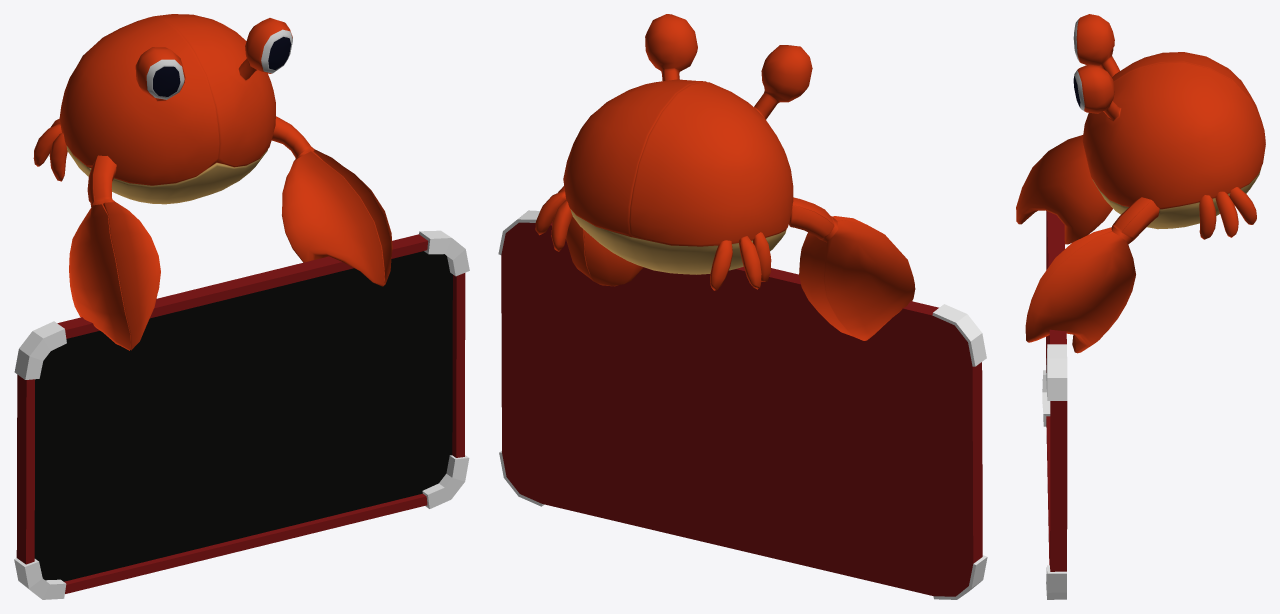
Rendered from Craby_1.FBX.
3 renders of one model, left to right at view 1: azimuth 30°, elevation 25°; view 2: azimuth 150°, elevation 25°; view 3: azimuth 270°, elevation 25°, orthographic. The views are drawn at different scales.
Parts seen in each view (by area): view 1: Pizarra 01, cuerpo 2, brazoDer_crab 2, brazoIz_crab 2; view 2: Pizarra 01, cuerpo 2, brazoDer_crab 2, brazoIz_crab 2; view 3: cuerpo 2, brazoIz_crab 2, Pizarra 01, brazoDer_crab 2.
Boxes of the visible parts, x1,y1,x2,y2 form: Pizarra 01: (14, 230, 469, 599); cuerpo 2: (33, 14, 292, 204); brazoDer_crab 2: (69, 155, 160, 350); brazoIz_crab 2: (271, 116, 392, 286); Pizarra 01: (498, 210, 987, 599); cuerpo 2: (535, 14, 812, 290); brazoDer_crab 2: (789, 197, 915, 340); brazoIz_crab 2: (566, 216, 643, 286); cuerpo 2: (1073, 14, 1265, 239); brazoIz_crab 2: (1025, 197, 1159, 353); Pizarra 01: (1042, 211, 1067, 599); brazoDer_crab 2: (1016, 135, 1112, 244).
Size of the model in its own units: 15.54 by 16.73 by 8.11.
